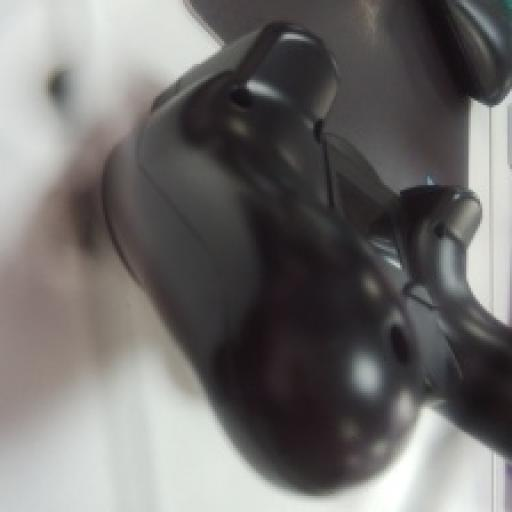game pad: (103, 23, 510, 491)
